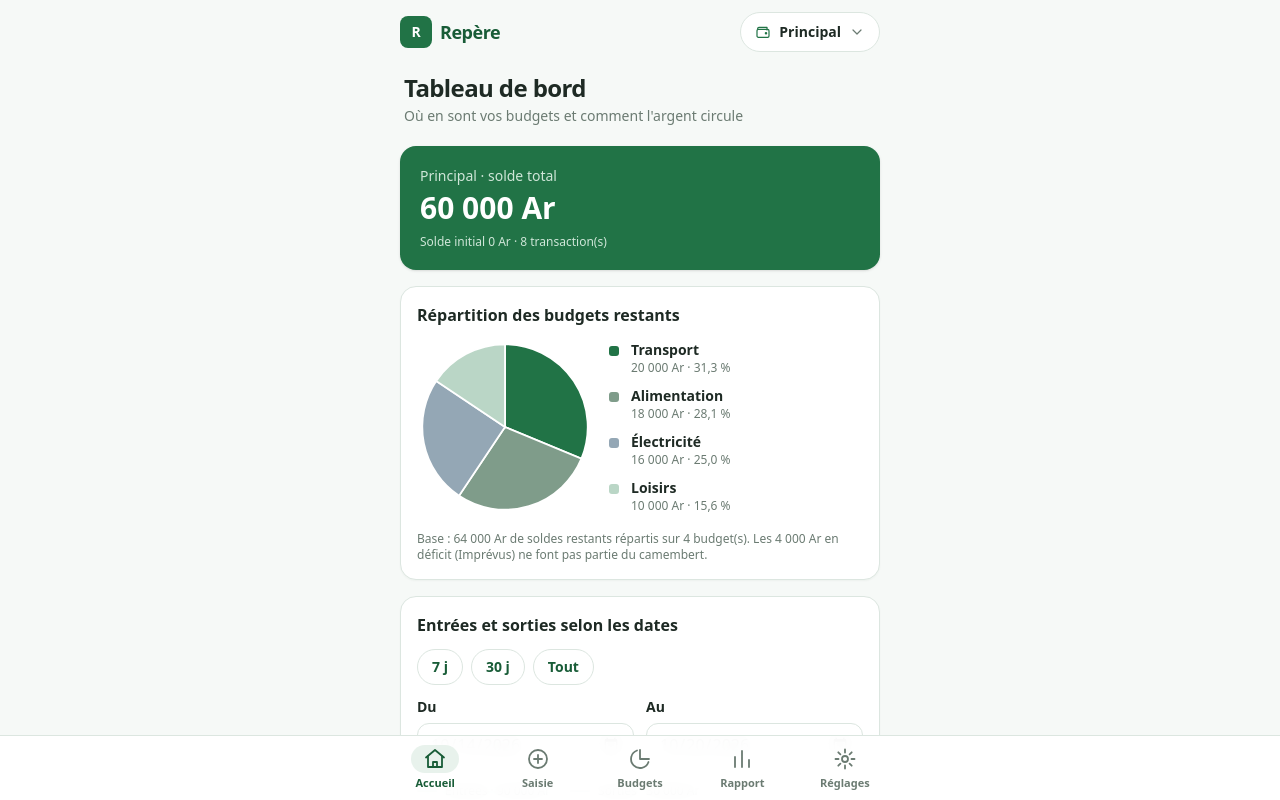
Scenario: budgets › catégorie : régler le budget par jour, renommer, et la suppression est refusée si elle est utilisée
Click the button "Budgets".
click(640, 768)  # box [589,736,691,799]
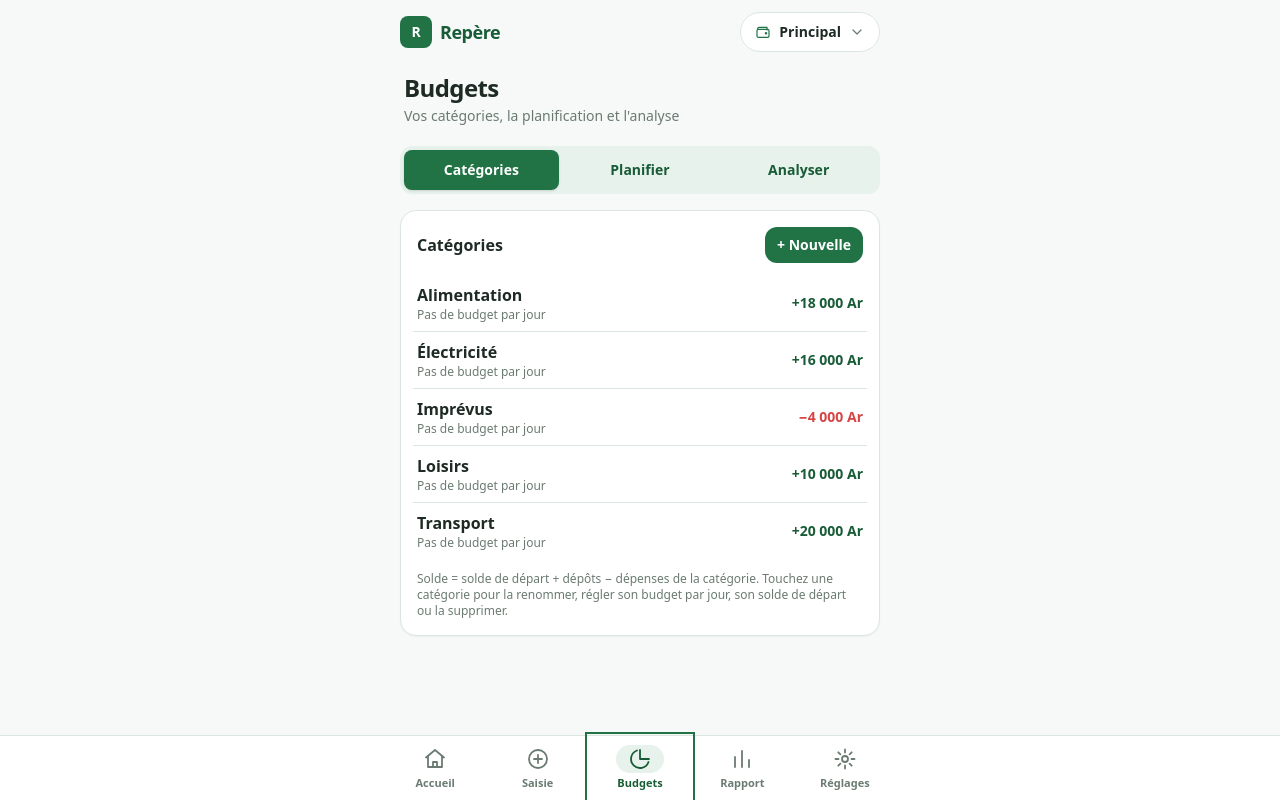
Click the button "Transport Pas de budget par jour +20 000 Ar".
click(456, 523)  # box [413,503,867,559]
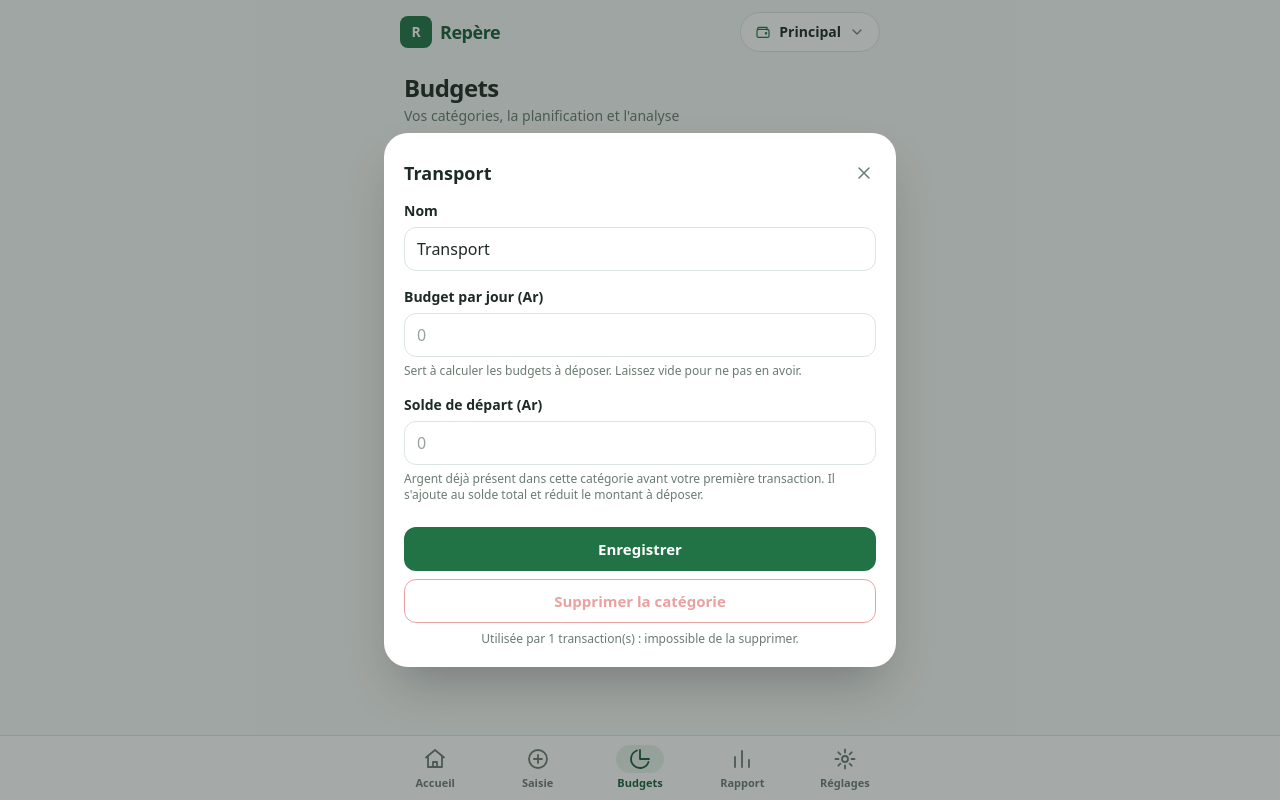
Type "3700" into the field labelled "Budget par jour (Ar)".
click(640, 335); type("3700")  # box [404,313,876,357]
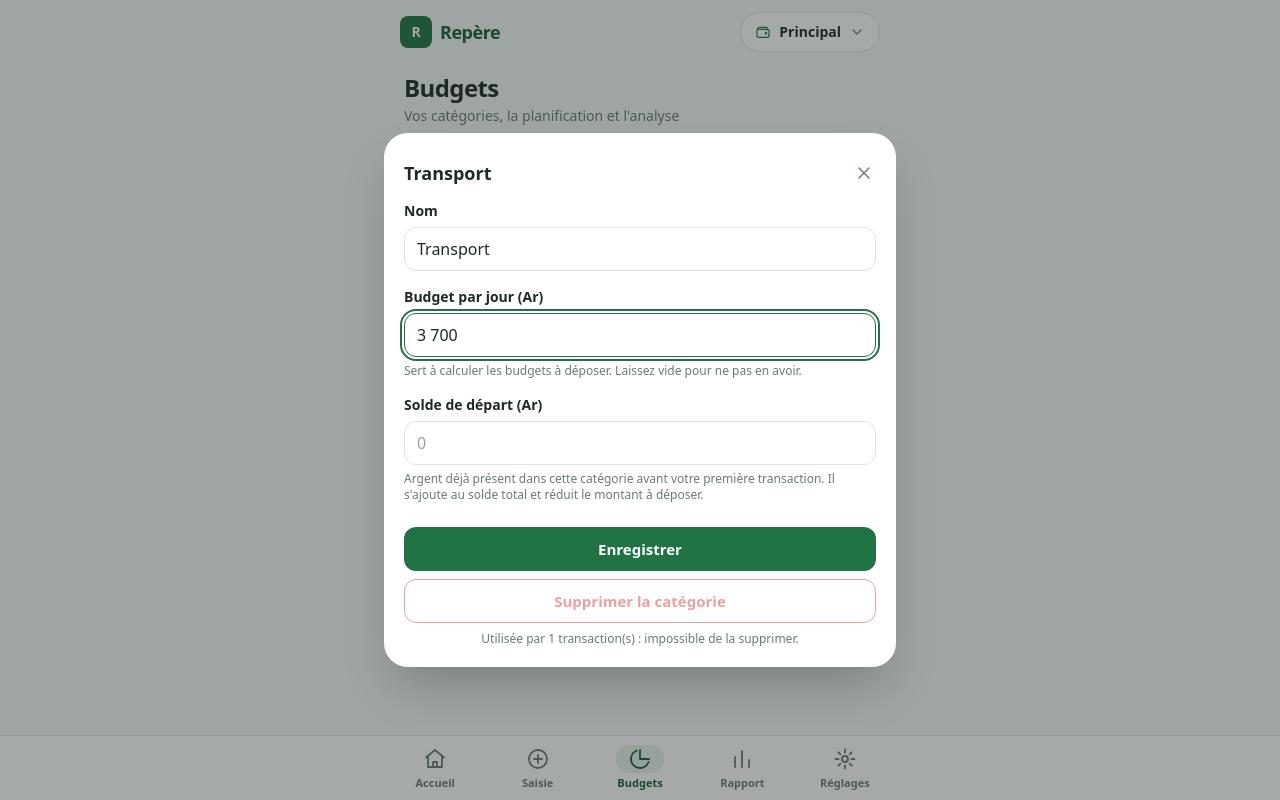
Replace the text in the field labelled "Nom" with "Transports" at (640,249), box [404,227,876,271]
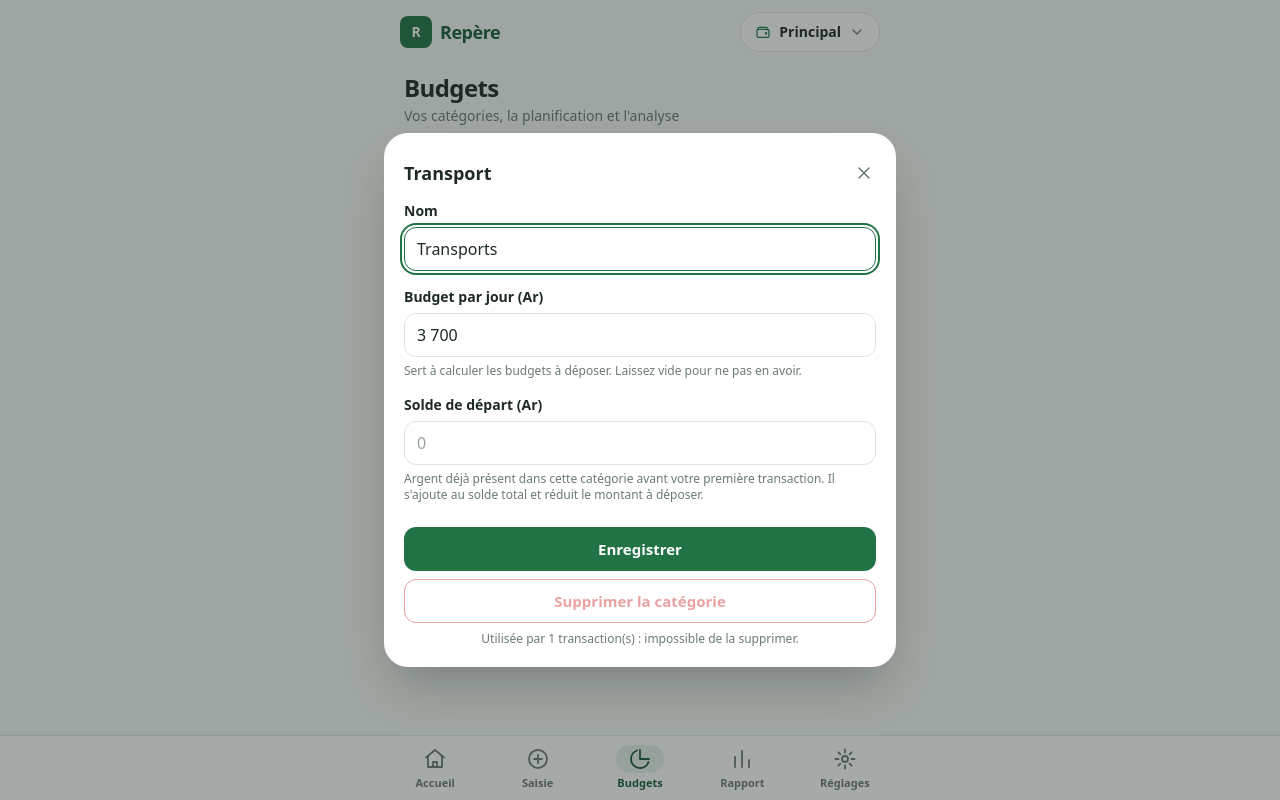
Click the button "Enregistrer".
click(640, 549)  # box [404,527,876,571]
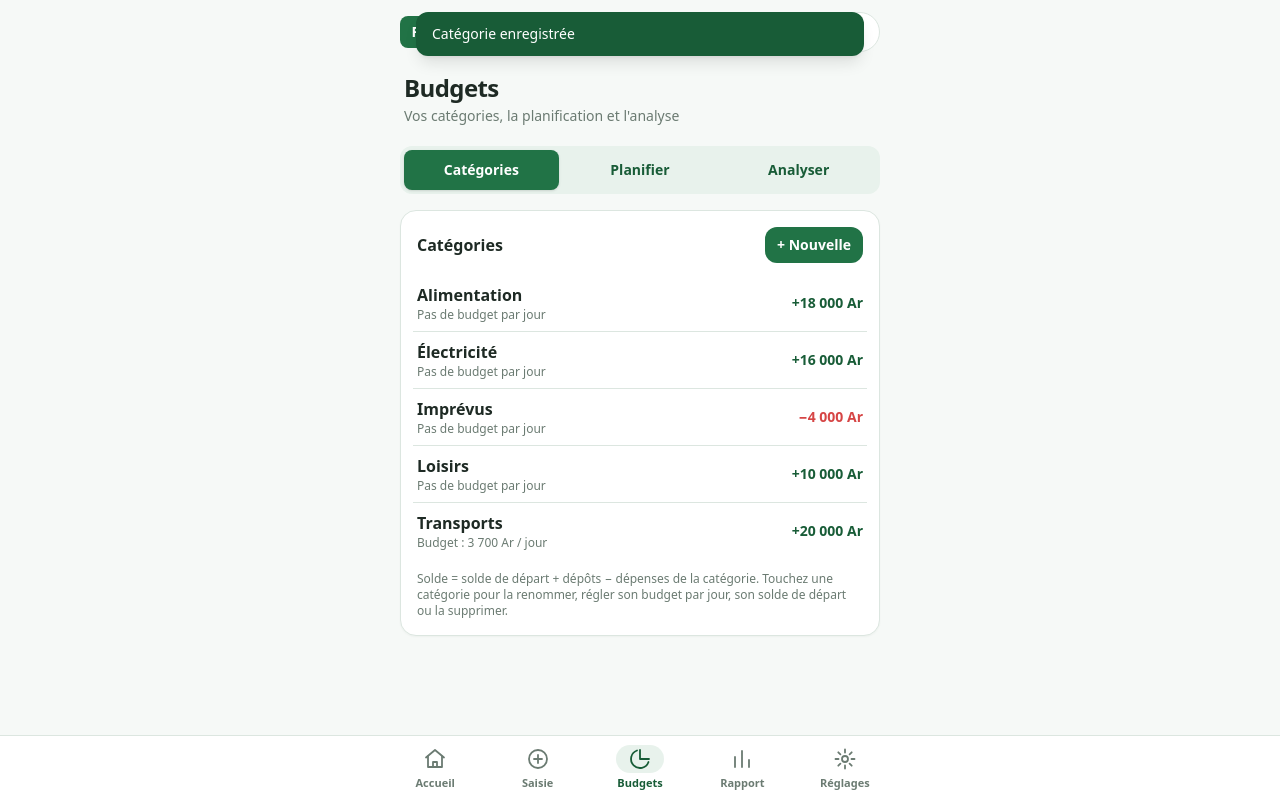
Now the text "Catégorie enregistrée" is shown, box [416,12,864,56]
Click the button "Alimentation Pas de budget par jour +18 000 Ar".
click(470, 295)  # box [413,275,867,331]
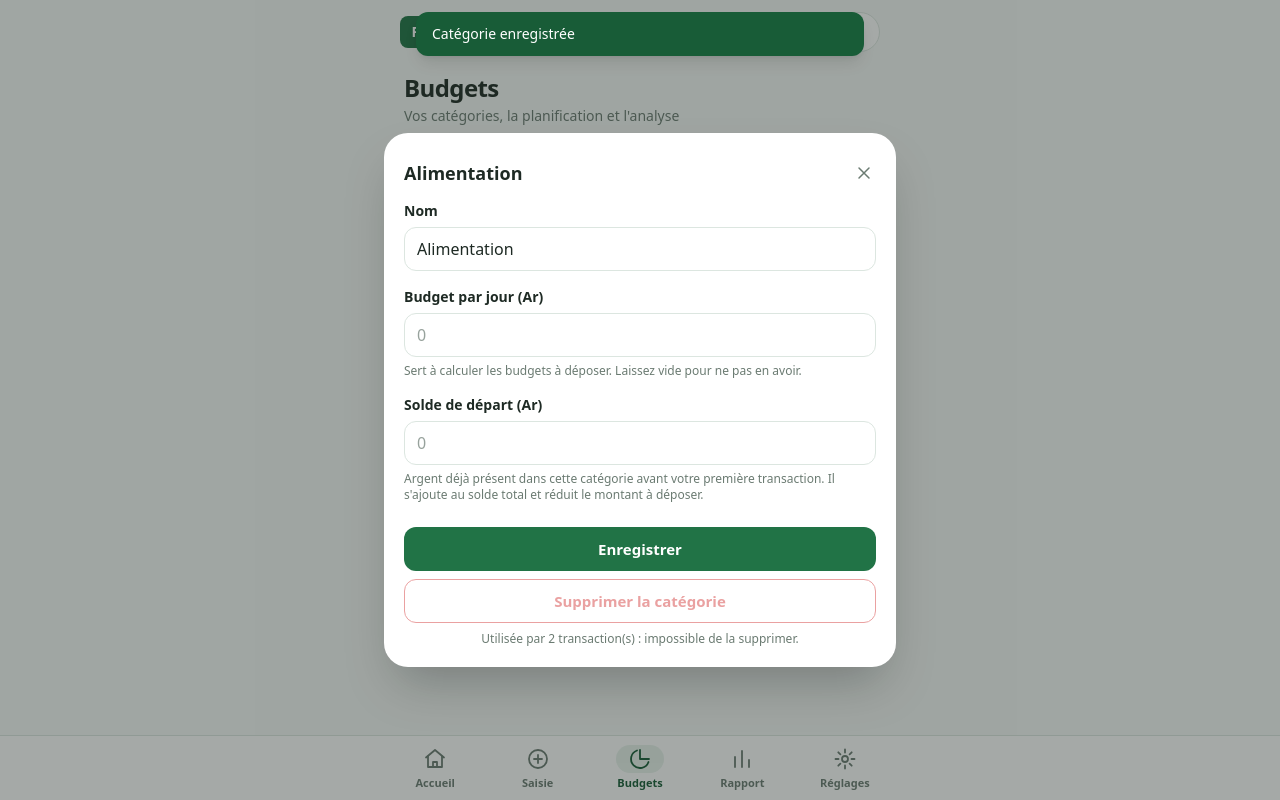
Now the button "Supprimer la catégorie" is disabled, box [404,579,876,623]
